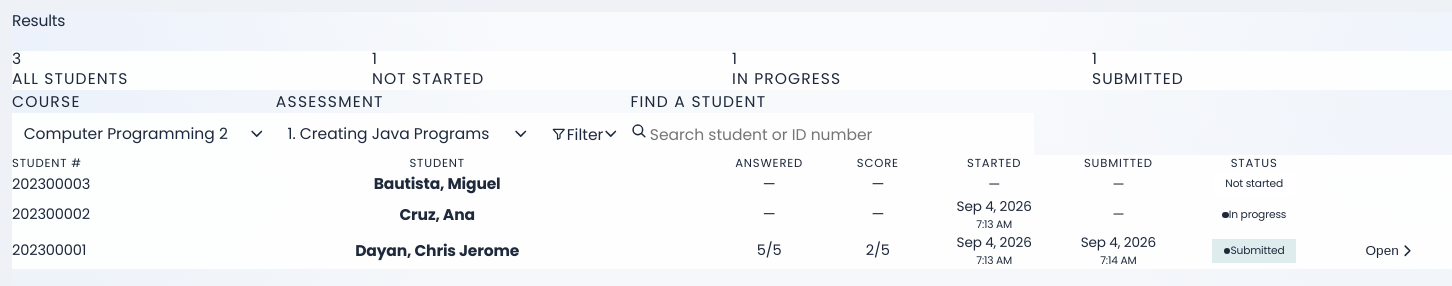
Test case: narrowing by state › reads as Filter until a state is picked
This screenshot has width=1452, height=286.
Expected: the text "Dayan, Chris Jerome" is shown, [355, 240, 519, 260]
Step 1. Click the dropdown named "Filter by status" → [585, 134], box [540, 113, 630, 155]
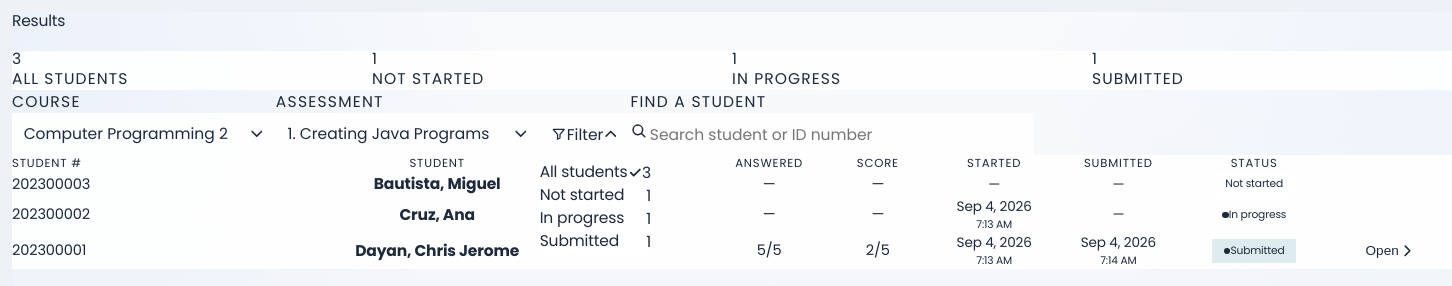
Step 2. Press the mouse on the option "Submitted 1" → [595, 242], box [540, 230, 651, 253]
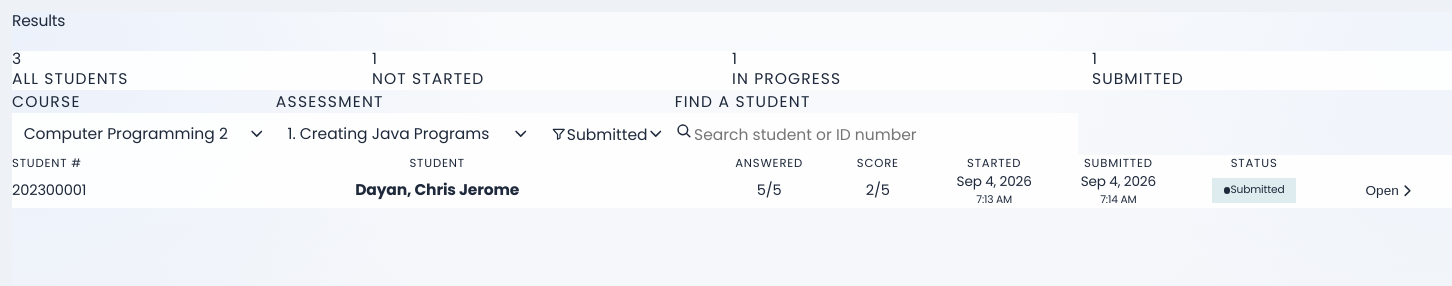
Expected: the dropdown named "Filter by status" reads "Submitted"
Step 3. Click the dropdown named "Filter by status" → [607, 134], box [540, 113, 675, 155]
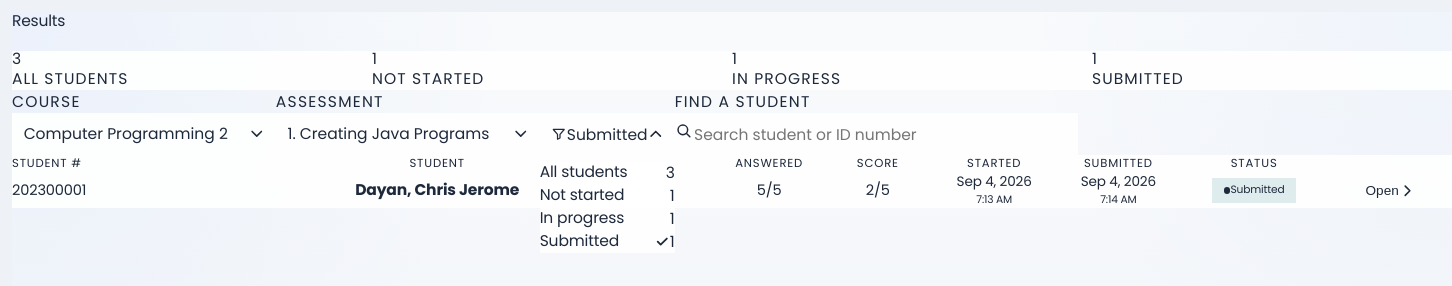
Step 4. Press the mouse on the option "All students 3" → [607, 173], box [540, 161, 675, 184]
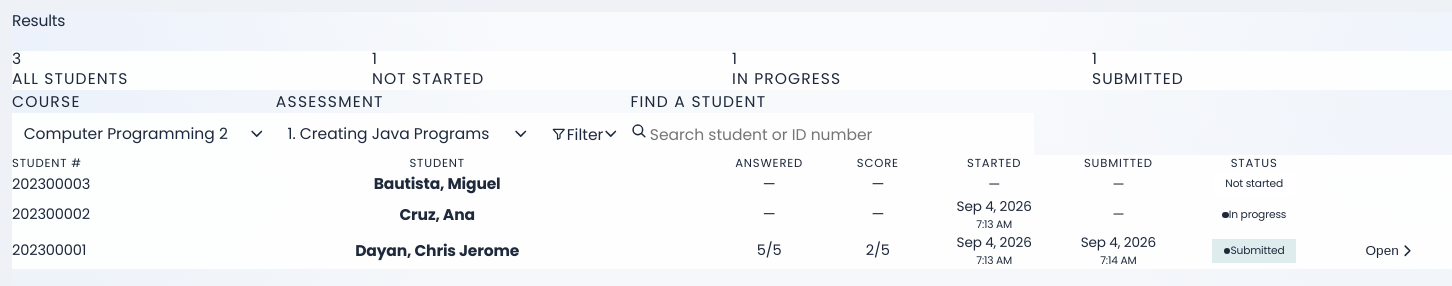
Expected: the dropdown named "Filter by status" reads "Filter", [540, 113, 630, 155]
